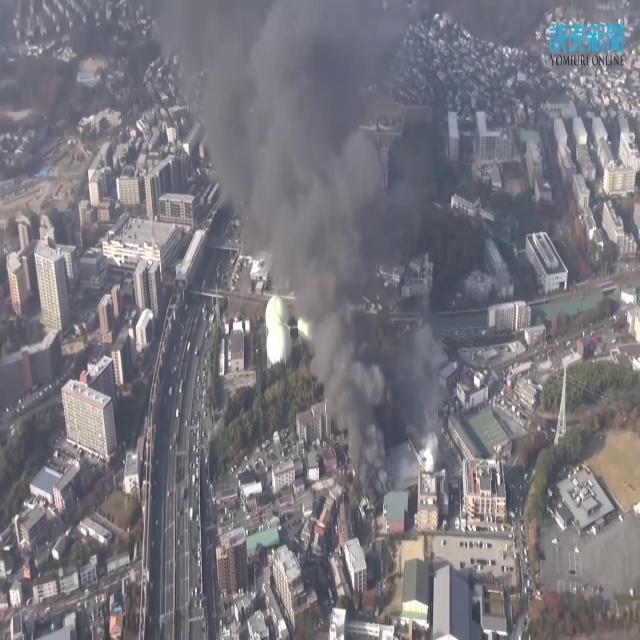Smoke: (233, 1, 449, 527)
